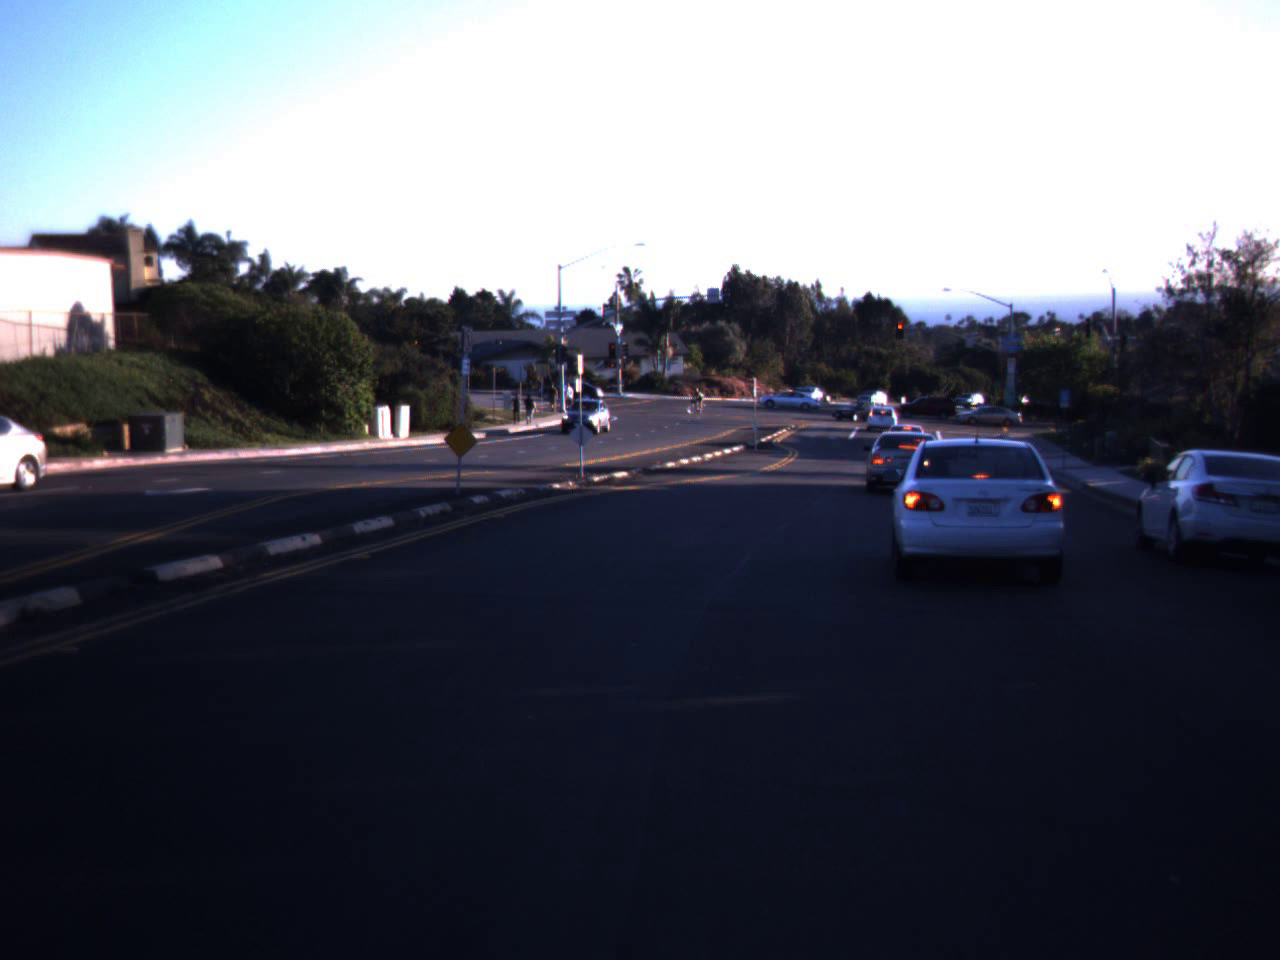stop: (894, 321, 906, 343)
